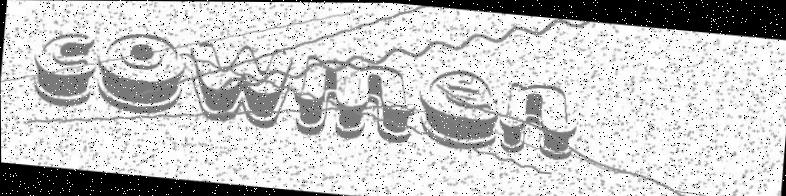c: (29, 27, 103, 108)
e: (415, 61, 505, 153)
m: (292, 51, 420, 147)
n: (493, 75, 582, 161)
o: (94, 25, 189, 119)
w: (182, 36, 298, 130)
